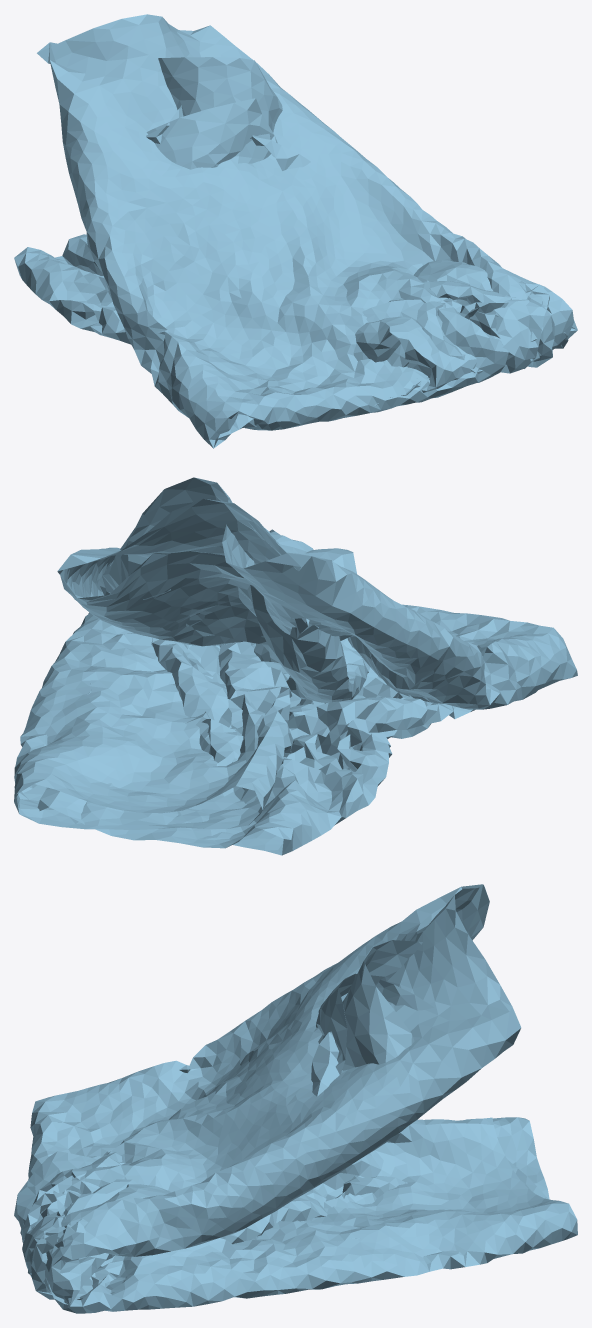
Rendered from frame_18.glb.
The picture shows the model from 3 angles, top to bottom: view 1: azimuth 30°, elevation 25°; view 2: azimuth 150°, elevation 25°; view 3: azimuth 270°, elevation 25°; orthographic projection. The views are drawn at different scales.
Parts seen in each view (by area): view 1: frame_18.obj; view 2: frame_18.obj; view 3: frame_18.obj.
Part boxes in pixels (x1=…): frame_18.obj: x1=14, y1=14, x2=577, y2=448; frame_18.obj: x1=14, y1=477, x2=577, y2=855; frame_18.obj: x1=14, y1=884, x2=577, y2=1313.
Bounding box in the file's own units: 0.865 × 0.5831 × 1.02.
